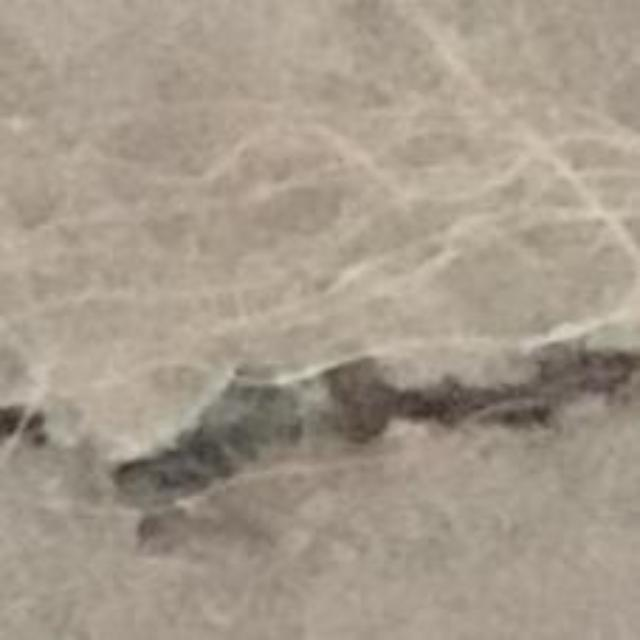crack: (110, 347, 639, 541)
